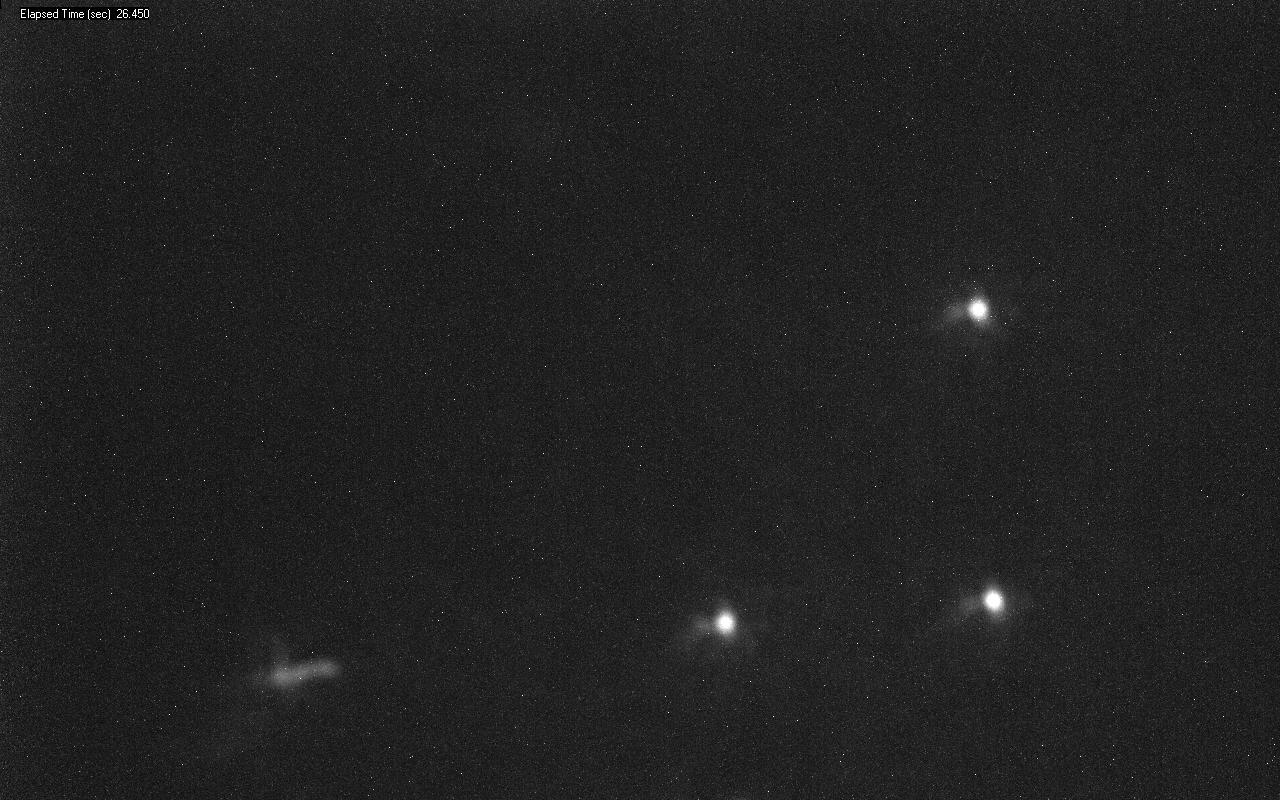Bead: (980, 587, 1004, 618), (966, 297, 992, 324), (712, 611, 736, 636)
